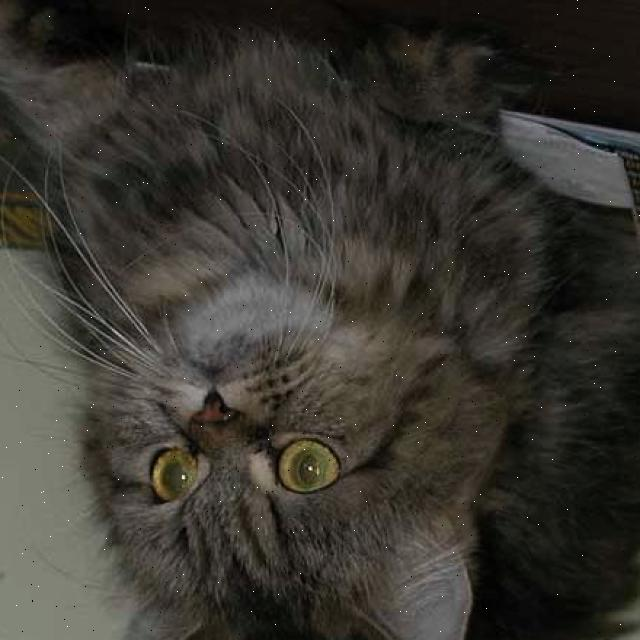Cat: (99, 246, 478, 640)
